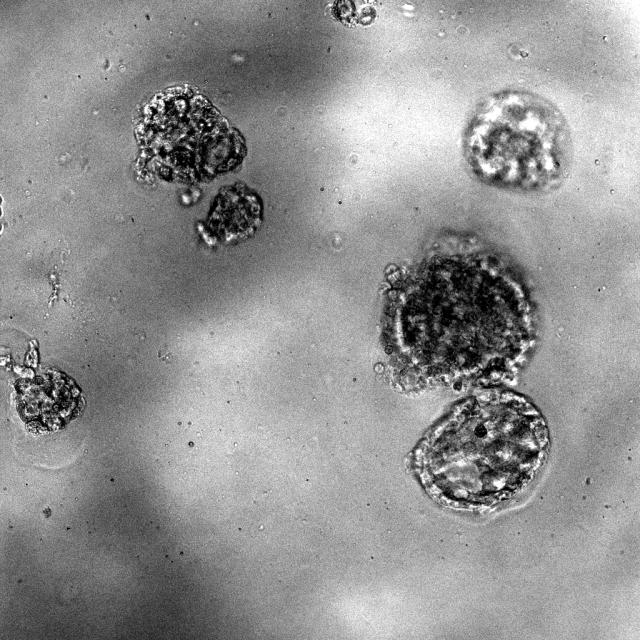organoid: (379, 236, 536, 394), (408, 388, 549, 513), (133, 85, 246, 205), (461, 88, 571, 192), (0, 339, 85, 435), (197, 181, 262, 248), (331, 0, 376, 28)
